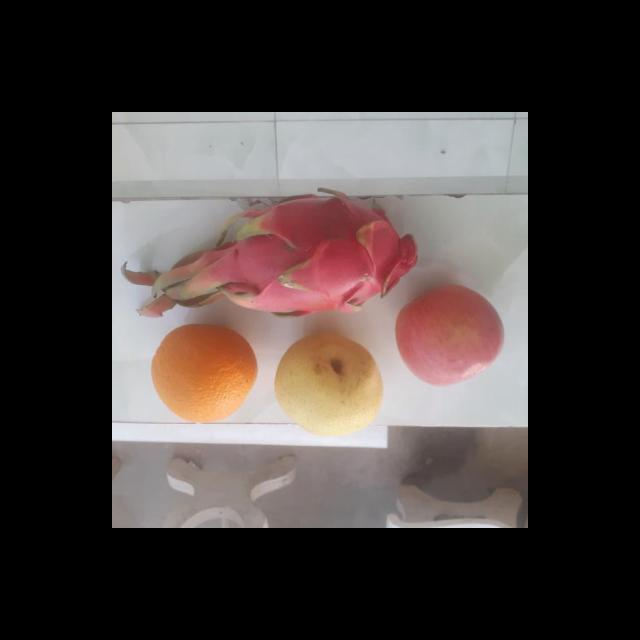apple: (394, 284, 508, 391)
orange: (149, 327, 262, 422)
pear: (272, 334, 390, 435)
pitaya: (221, 196, 434, 320)
